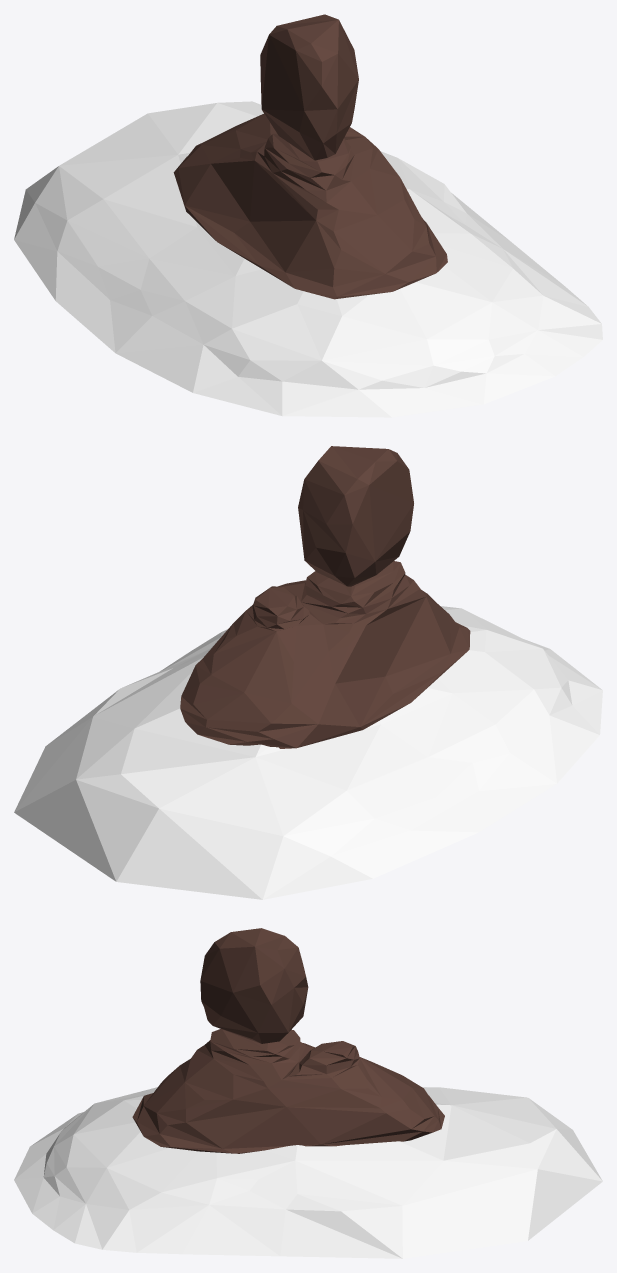
File: snow_rock_010.fbx
The picture shows the model from 3 angles, top to bottom: view 1: azimuth 30°, elevation 25°; view 2: azimuth 150°, elevation 25°; view 3: azimuth 270°, elevation 25°; orthographic projection. The views are drawn at different scales.
Parts seen in each view (by area): view 1: snow_rock_010; view 2: snow_rock_010; view 3: snow_rock_010.
Part boxes in pixels (x1,y1,x2,y2): snow_rock_010: [14, 14, 602, 417]; snow_rock_010: [14, 446, 602, 899]; snow_rock_010: [14, 928, 602, 1258].
Bounding box in the file's own units: 1599 × 2342 × 1023.
